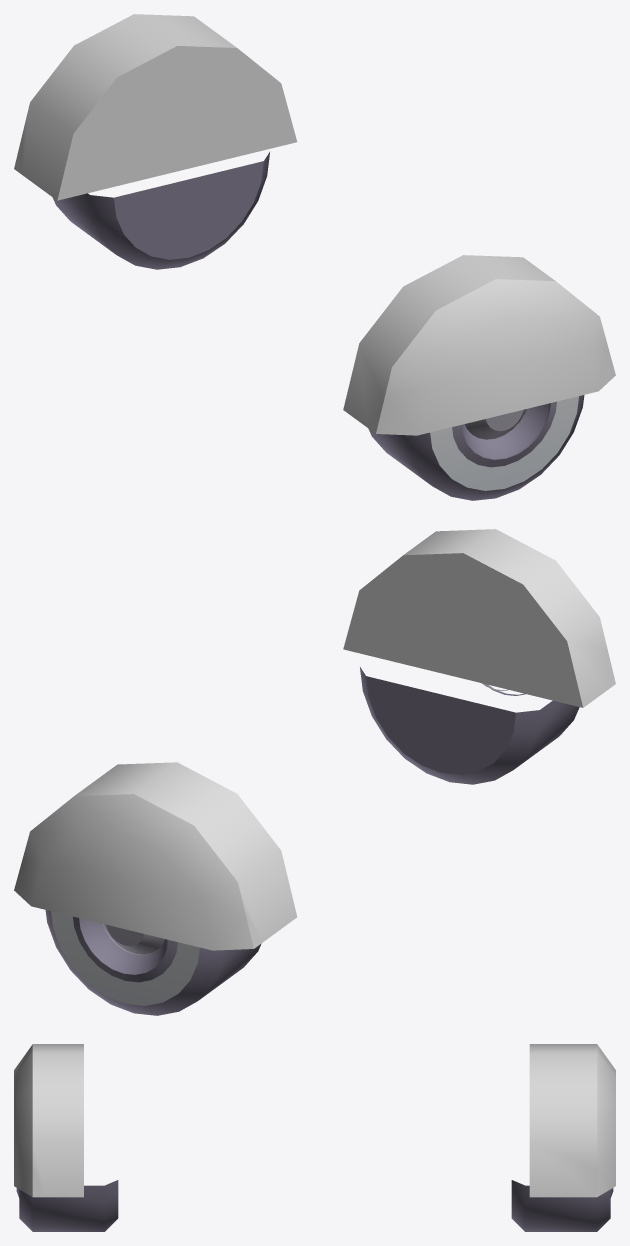
The picture shows the model from 3 angles, top to bottom: view 1: azimuth 30°, elevation 25°; view 2: azimuth 150°, elevation 25°; view 3: azimuth 270°, elevation 25°; orthographic projection. The views are drawn at different scales.
Parts seen in each view (by area): view 1: base-e; view 2: base-e; view 3: base-e.
Boxes of the visible parts, x1=… form: base-e: x1=14, y1=14, x2=615, y2=500; base-e: x1=14, y1=529, x2=615, y2=1015; base-e: x1=14, y1=1044, x2=615, y2=1231.
Size of the model in its own units: 0.8041 by 0.7021 by 2.24.
